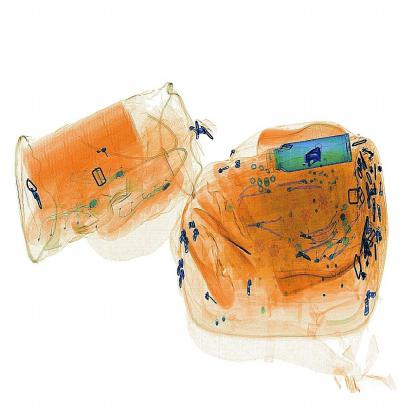knife: (298, 139, 324, 171)
